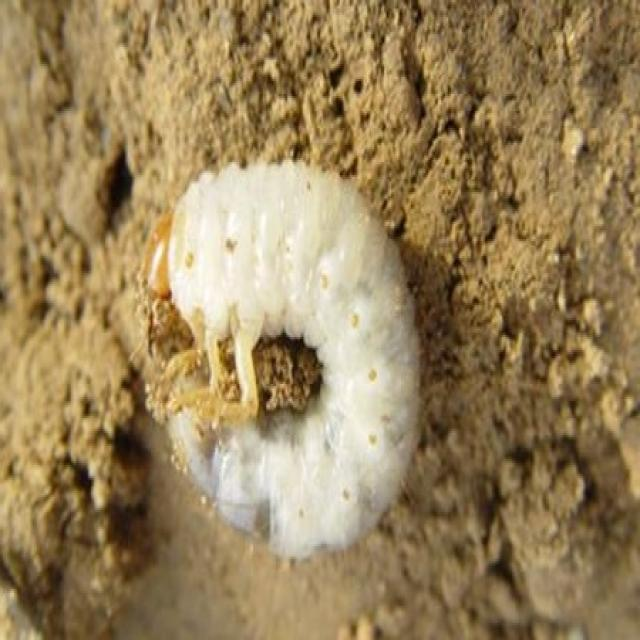grub: (142, 164, 423, 555)
